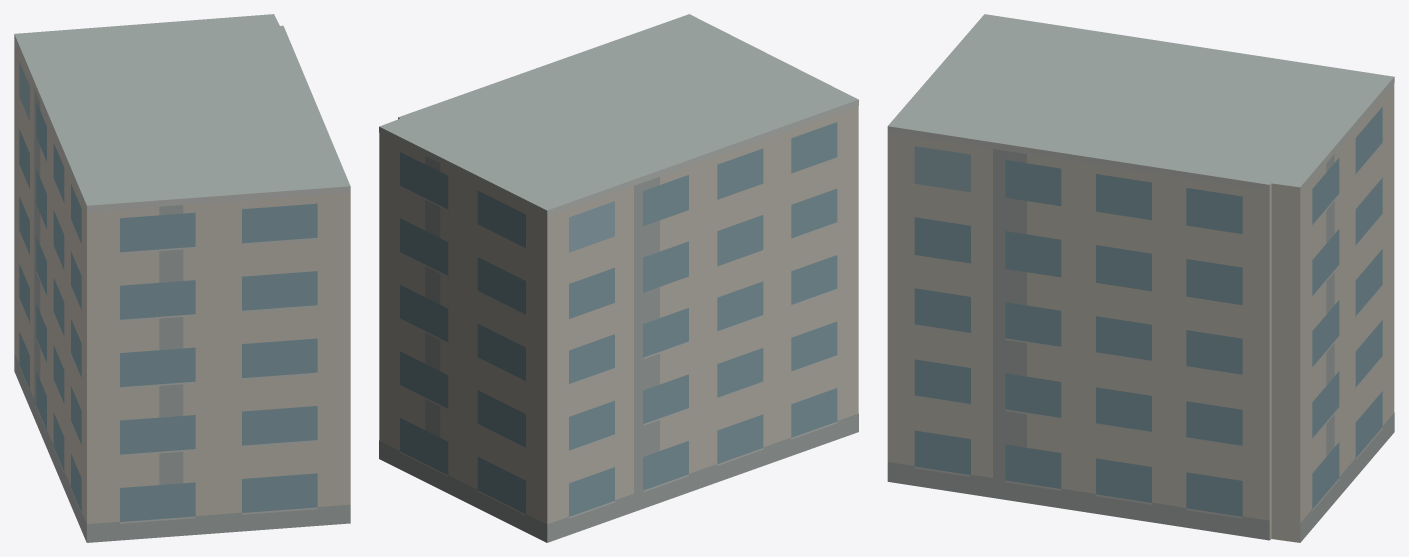
The model's file is survey-upis-32894278.glb.
The picture shows the model from 3 angles, left to right: view 1: azimuth 30°, elevation 25°; view 2: azimuth 150°, elevation 25°; view 3: azimuth 270°, elevation 25°; orthographic projection. The views are drawn at different scales.
Visible parts, largest first — view 1: survey-upis-32894278.tmp; view 2: survey-upis-32894278.tmp; view 3: survey-upis-32894278.tmp.
Boxes of the visible parts, bbox=[...] form: survey-upis-32894278.tmp: bbox=[14, 14, 350, 542]; survey-upis-32894278.tmp: bbox=[379, 14, 858, 542]; survey-upis-32894278.tmp: bbox=[887, 14, 1394, 542].
Size of the model in its own units: 13.6 by 13 by 16.8.
